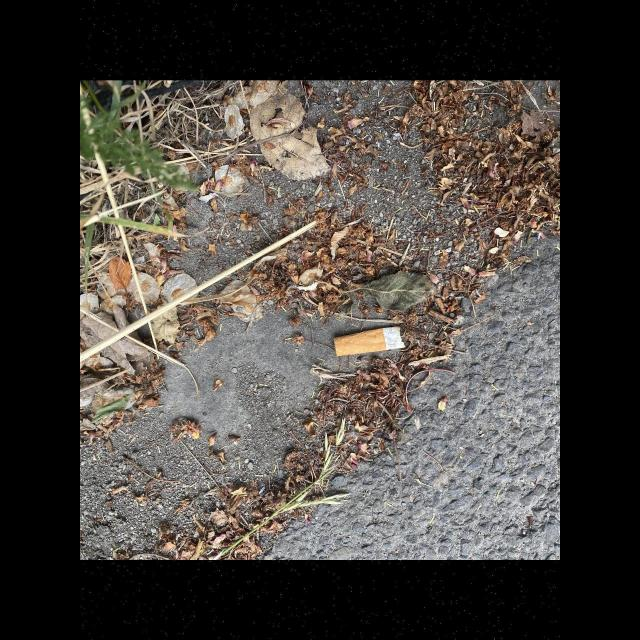cigarette: (333, 325, 406, 356)
